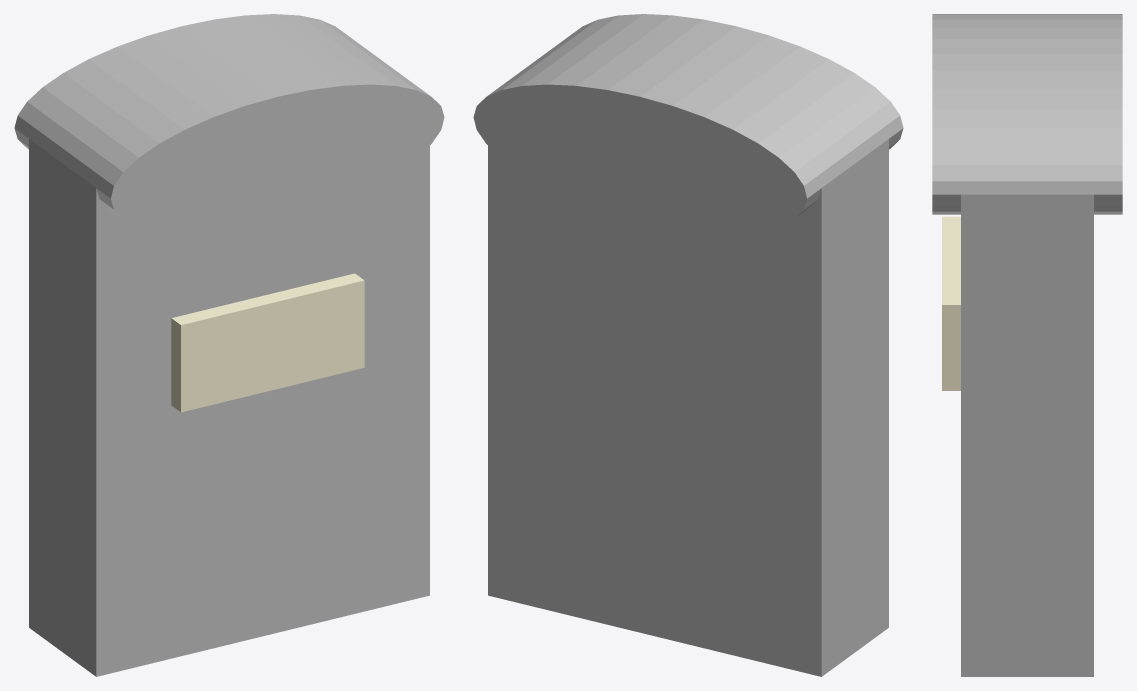
Rendered from tombstone.glb.
The picture shows the model from 3 angles, left to right: view 1: azimuth 30°, elevation 25°; view 2: azimuth 150°, elevation 25°; view 3: azimuth 270°, elevation 25°; orthographic projection.
Parts seen in each view (by area): view 1: SB_TombBody, SB_TombTop, SB_RIP; view 2: SB_TombBody, SB_TombTop; view 3: SB_TombBody, SB_TombTop, SB_RIP.
Part boxes in pixels (x1=…): SB_TombBody: x1=29, y1=139, x2=429, y2=676; SB_TombTop: x1=14, y1=14, x2=444, y2=231; SB_RIP: x1=171, y1=273, x2=364, y2=412; SB_TombBody: x1=488, y1=139, x2=888, y2=676; SB_TombTop: x1=473, y1=14, x2=903, y2=231; SB_TombBody: x1=961, y1=194, x2=1093, y2=676; SB_TombTop: x1=932, y1=14, x2=1122, y2=214; SB_RIP: x1=942, y1=216, x2=960, y2=390.
Size of the model in its own units: 1 by 1.57 by 0.5.
